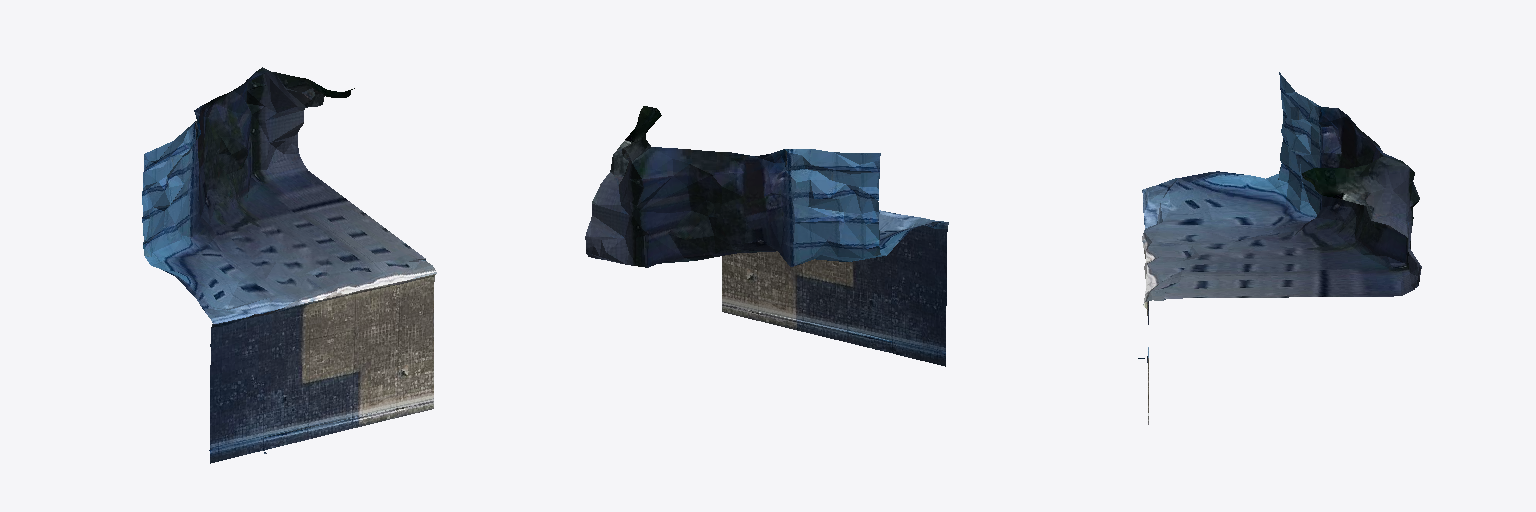
The picture shows the model from 3 angles: view 1: azimuth 30°, elevation 25°; view 2: azimuth 150°, elevation 25°; view 3: azimuth 270°, elevation 25°; orthographic projection.
Parts seen in each view (by area): view 1: obj_0; view 2: obj_0; view 3: obj_0.
Boxes of the visible parts, x1,y1,x2,y2 form: obj_0: [142, 67, 436, 463]; obj_0: [585, 106, 948, 366]; obj_0: [1138, 72, 1421, 424].
Bounding box in the file's own units: 20.08 × 22.53 × 21.99.
1 materials, 1 textured.